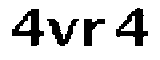4: (113, 4, 150, 52), (9, 5, 46, 47)
r: (81, 15, 107, 51)
v: (46, 14, 81, 50)
